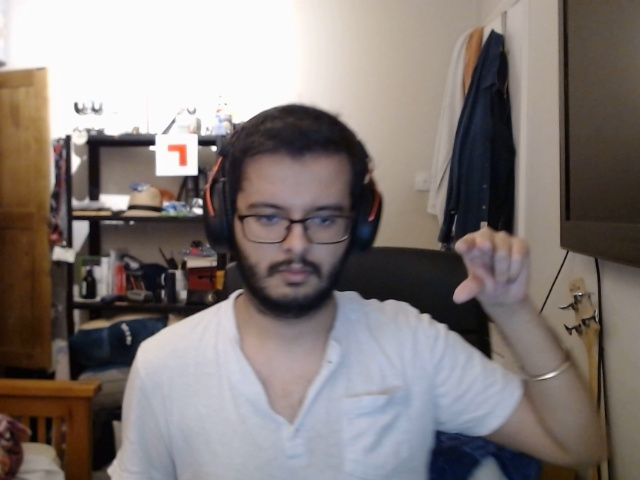No: (438, 223, 552, 310)
